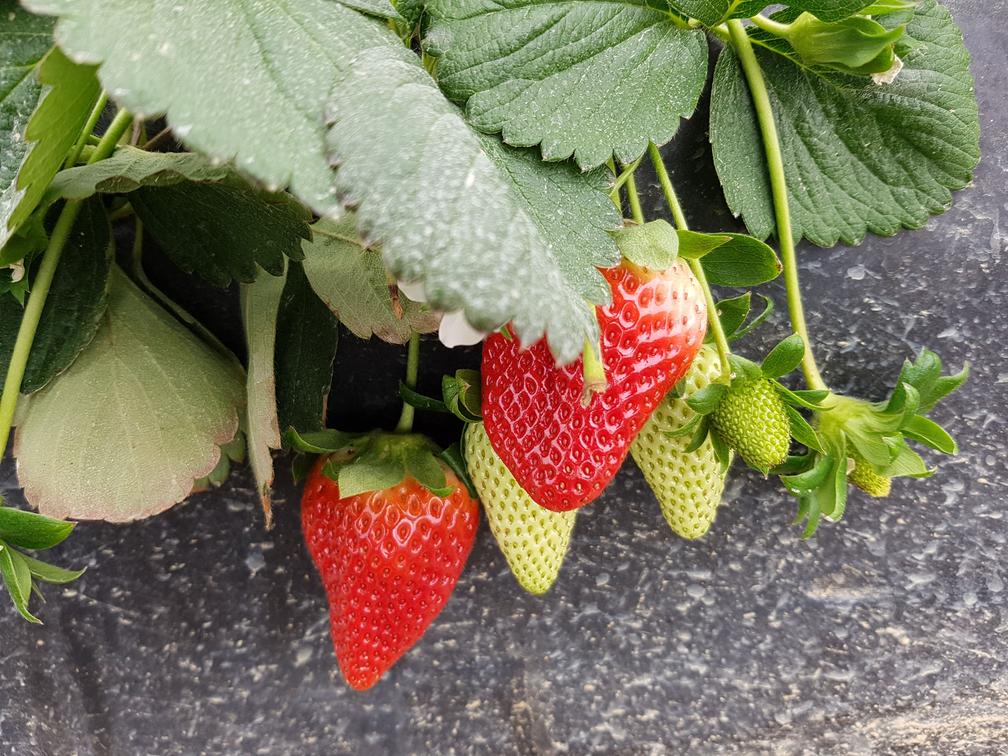Ripe: (294, 439, 478, 697), (489, 299, 709, 504)
Unripe: (641, 416, 735, 539), (477, 479, 567, 598), (722, 371, 798, 468)
